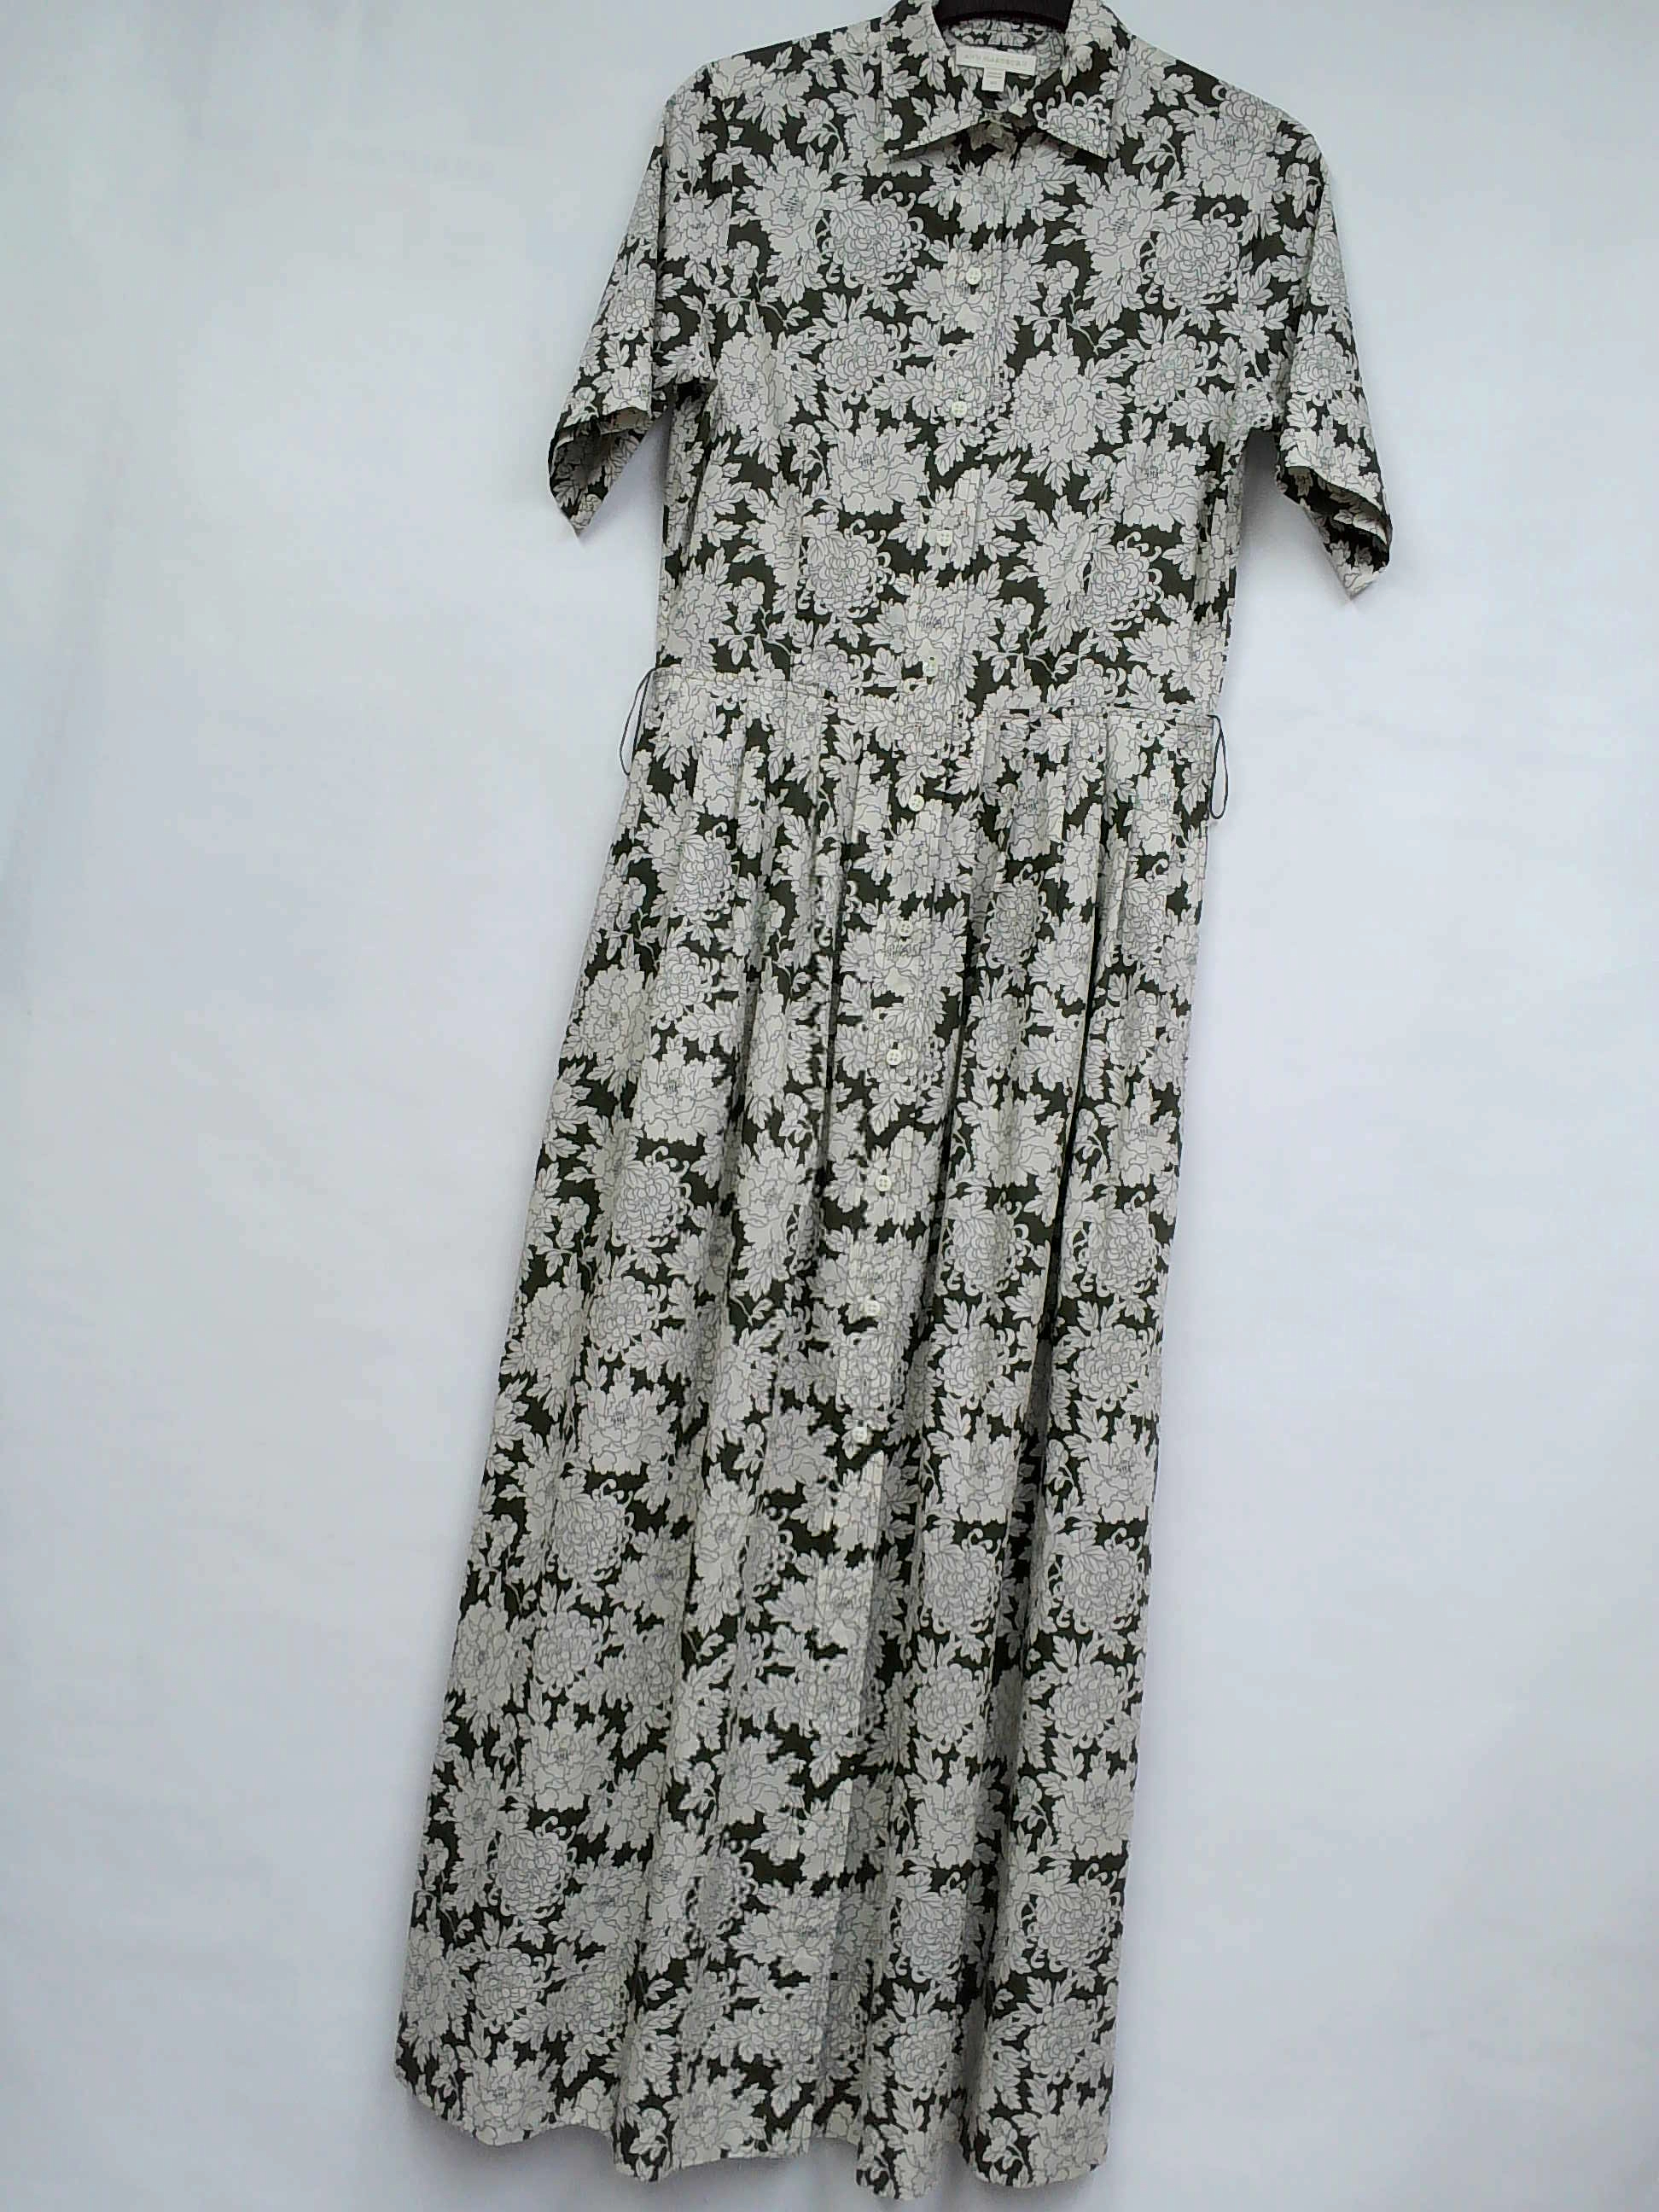seam: (1009, 669, 1194, 738)
